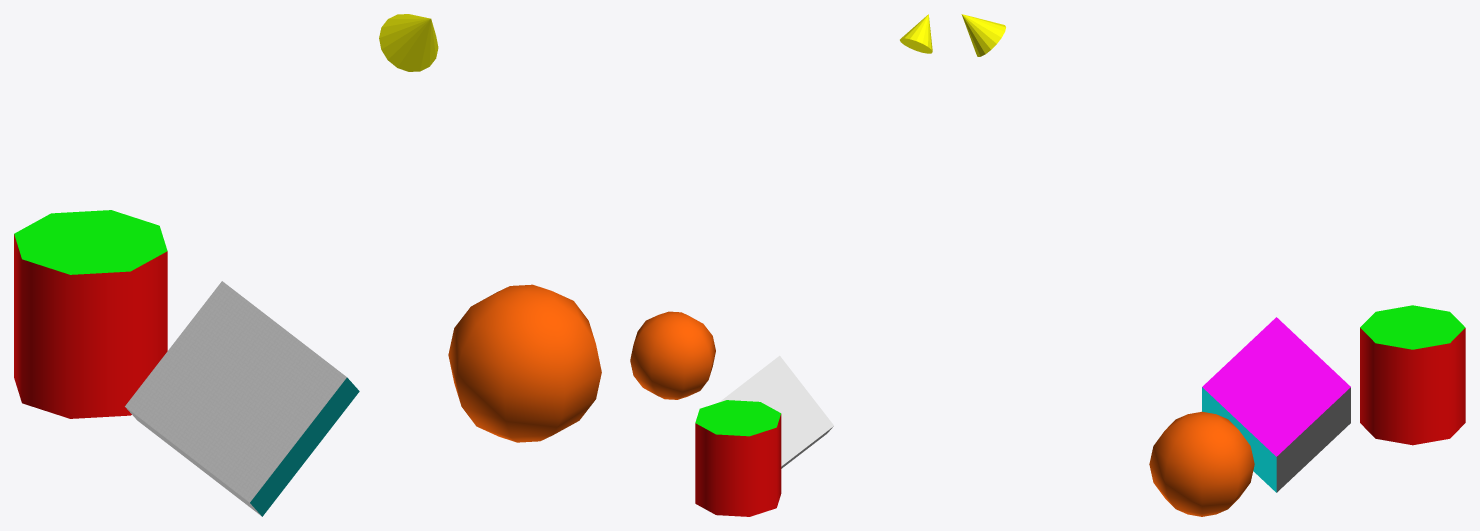
File: TestColladaWriter-testWrite.dae
3 renders of one model, left to right at view 1: azimuth 30°, elevation 25°; view 2: azimuth 150°, elevation 25°; view 3: azimuth 270°, elevation 25°, orthographic. The views are drawn at different scales.
Visible parts, largest first — view 1: cube, cylinder, sphere, lightbulb; view 2: cylinder, sphere, cube, lightbulb; view 3: cube, cylinder, sphere, lightbulb.
Boxes of the visible parts, x1,y1,x2,y2 form: cube: (125,281,359,516); cylinder: (14,210,167,418); sphere: (448,284,601,442); lightbulb: (379,14,438,71); cylinder: (695,400,781,516); sphere: (630,311,715,399); cube: (719,355,833,468); lightbulb: (900,14,932,53); cube: (1202,317,1350,492); cylinder: (1360,305,1465,445); sphere: (1149,411,1254,516); lightbulb: (961,14,1005,56).
Size of the model in its own units: 3 by 4.78 by 4.78.
